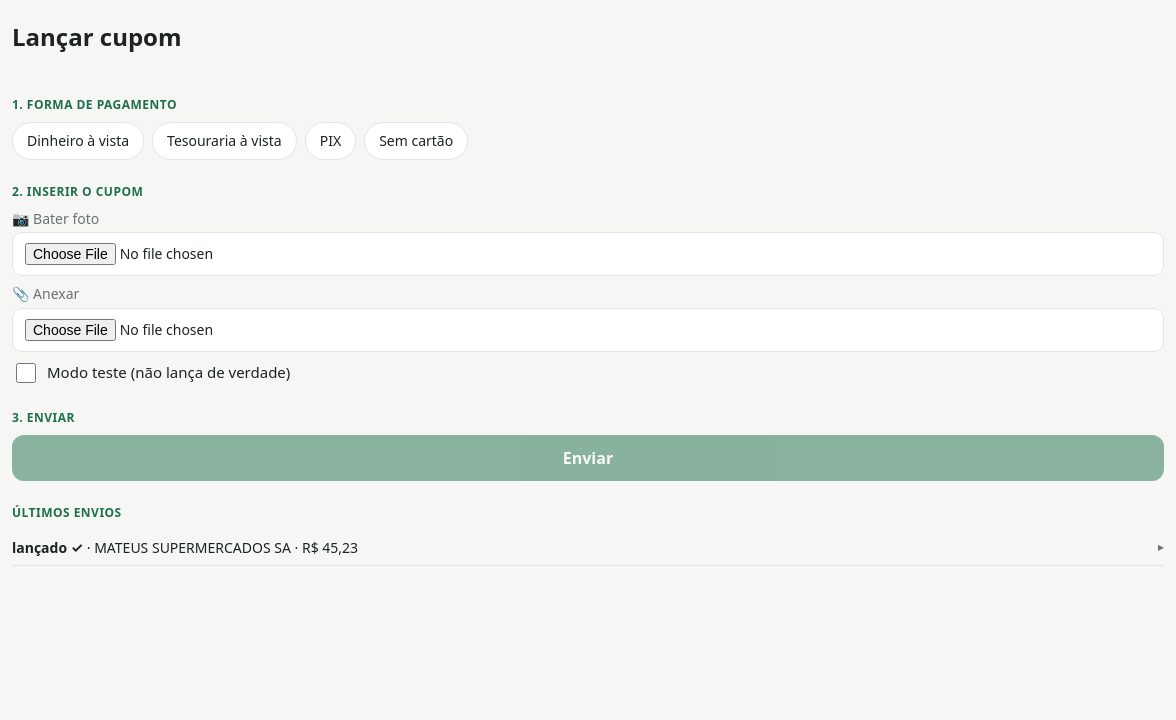
Cupom — "Lançado em" no detalhe do cupom lançado › cupom LANCADO aberto mostra "Lançado em: dia às hora" (horário de Belém) e o pedido no SisChef
Step 1. Click the button "lançado ✓ · MATEUS SUPERMERCADOS SA · R$ 45,23 ▸" → click(48, 547), box x1=12 y1=530 x2=1164 y2=565
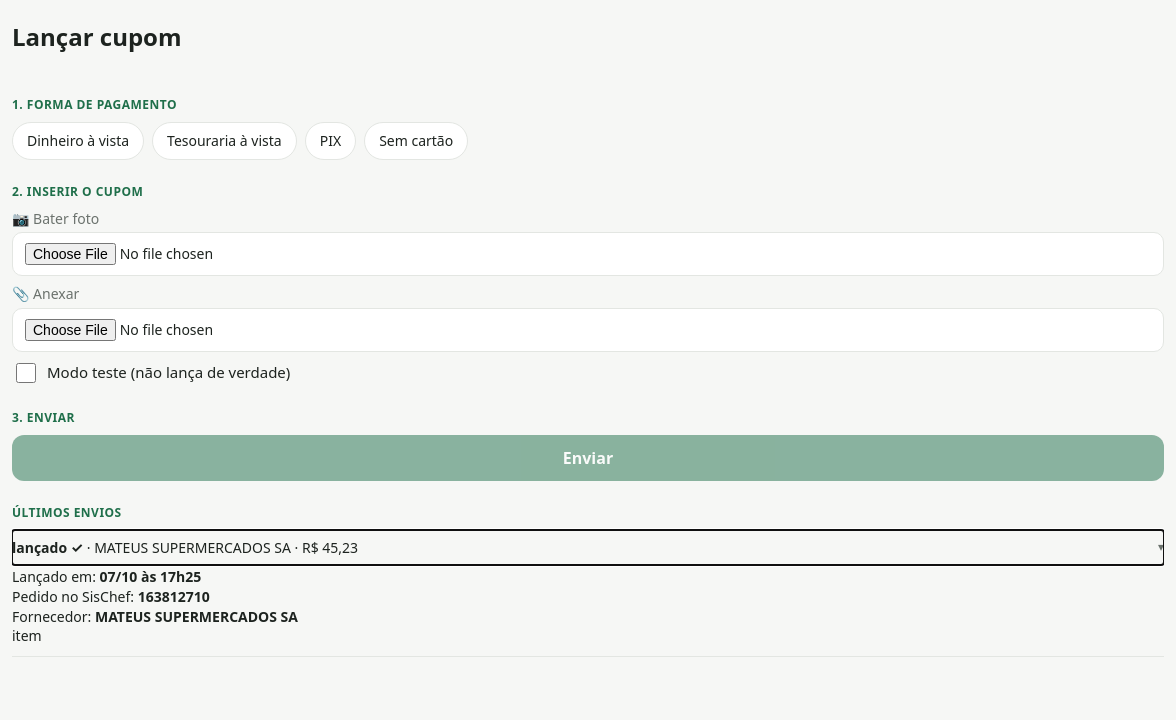
Check: the element with test id "detalhe-quando" reads "Lançado em: 07/10 às 17h25", box x1=12 y1=567 x2=201 y2=586
Check: the text "Pedido no SisChef: 163812710" is shown, box x1=12 y1=587 x2=210 y2=606
